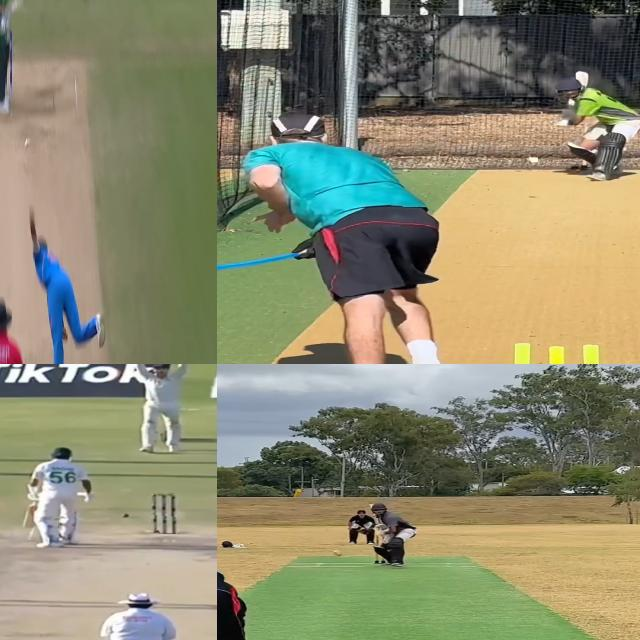Cricket ball: (331, 546, 349, 558), (524, 156, 542, 166), (24, 136, 30, 149), (120, 513, 131, 518)
Stumps: (151, 492, 177, 534)
